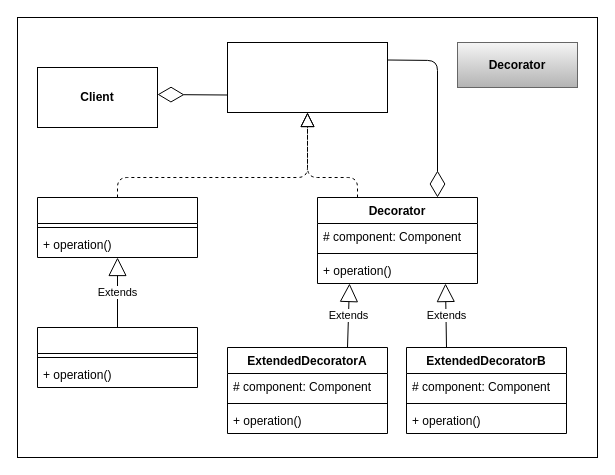
This 615x475 diagram has some shape labels left out. Here are the shapes that lost their labels. From the top down, the box of each, then its label:
(226, 42, 388, 112): <<Interface>> Component + operation()
(36, 196, 198, 258): ConcreteComponent
(36, 326, 198, 388): ExtendedConcrCompo.
